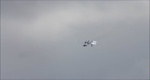maybay_muctieu: (79, 38, 97, 49)
